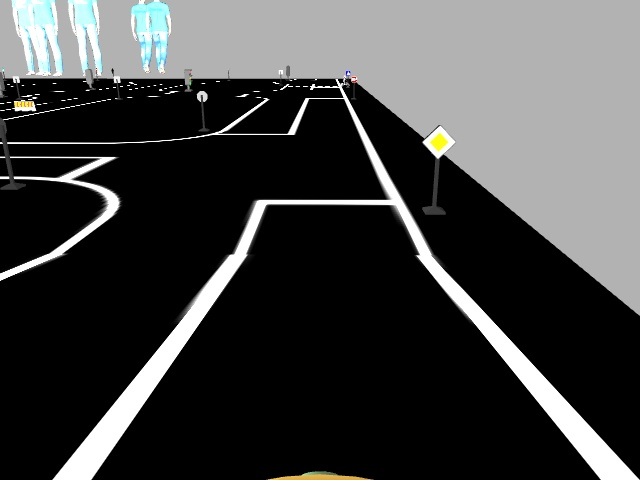Priority: (421, 121, 456, 160)
